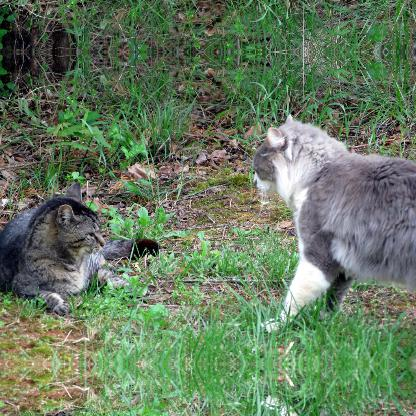Cat: (250, 112, 414, 334), (0, 184, 160, 316)
